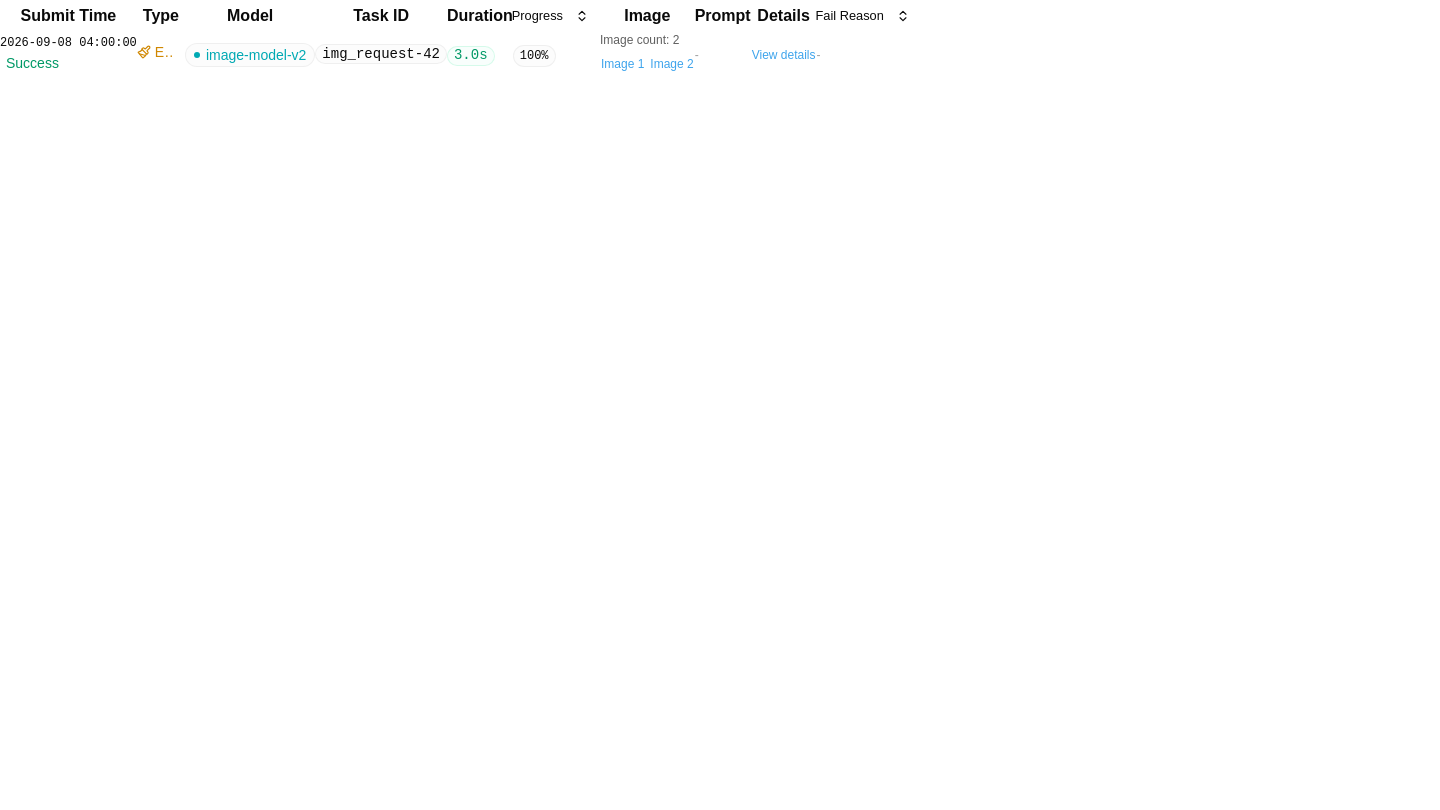
Scenario: an edit request with zero cost and empty saved parameters remains inspectable without a prompt
The image size is (1440, 810).
Click the button "View details".
click(784, 54)  # box [751, 42, 816, 66]
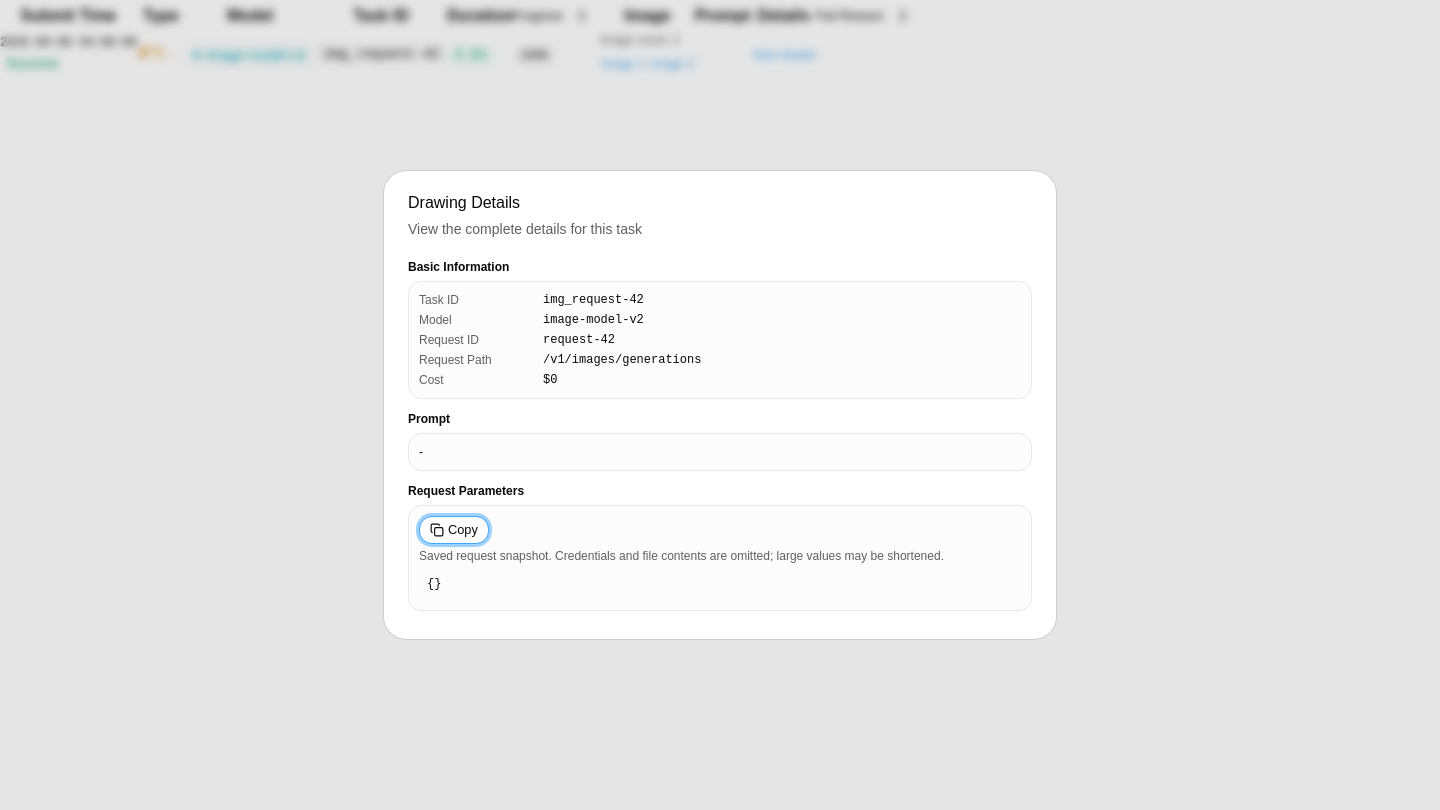
Expected: the text "$0" is shown, [543, 373, 557, 387]
Expected: the text "{}" is shown, [427, 577, 441, 591]
